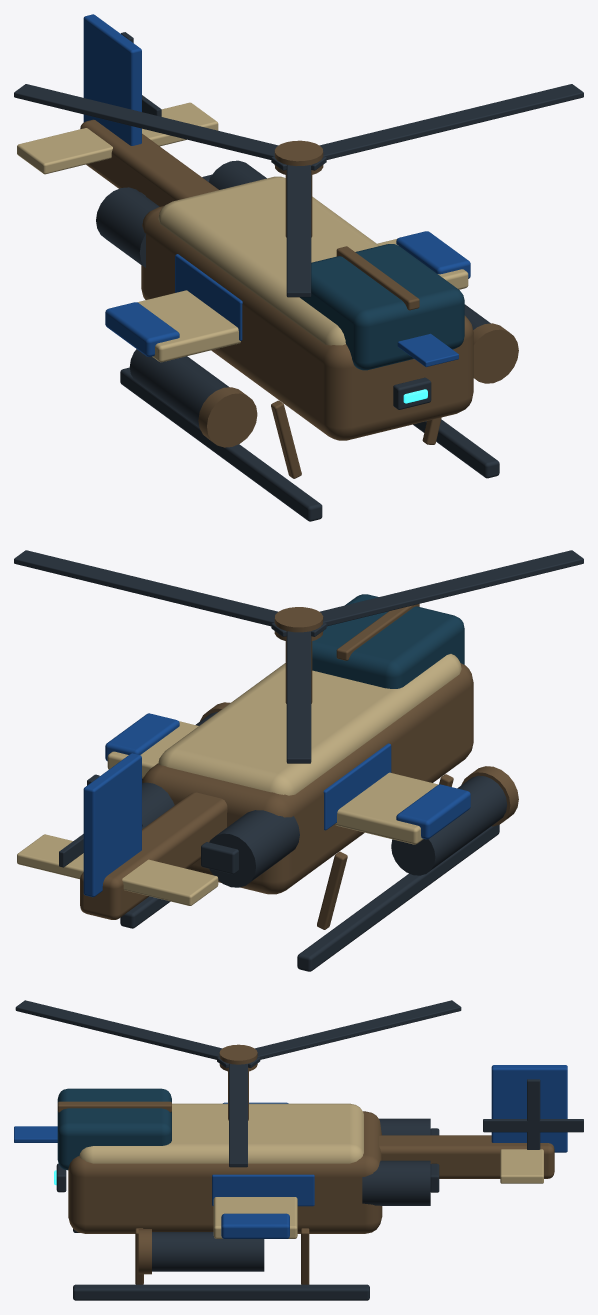
File: gunship-0.glb
3 views of the same model, one above another, from view 1: azimuth 30°, elevation 25°; view 2: azimuth 150°, elevation 25°; view 3: azimuth 270°, elevation 25° (orthographic). The views are drawn at different scales.
Visible parts, largest first — view 1: Airframe_0, CeramicFuselage_1, Cockpit_2, TailFin_24, TailBoom_23, RotorBlade_34, RotorBlade_36, TailPlane_25, Wing_8, Skid_26, WeaponPod_10, RotorBlade_35 (+13 smaller); view 2: CeramicFuselage_1, Airframe_0, Cockpit_2, TailBoom_23, TailFin_24, TailPlane_25, RotorBlade_35, RotorBlade_34, WeaponPod_10, Skid_26, Exhaust_12, Wing_8 (+12 smaller); view 3: Airframe_0, CeramicFuselage_1, Cockpit_2, Skid_29, TailBoom_23, TailFin_24, WeaponPod_18, Exhaust_20, RotorBlade_35, RotorBlade_36, SideEnamel_15, RotorBlade_34 (+11 smaller).
Boxes of the visible parts, x1,y1,x2,y2 form: Airframe_0: (141, 206, 473, 440); CeramicFuselage_1: (158, 176, 379, 345); Cockpit_2: (300, 244, 464, 370); TailFin_24: (83, 14, 141, 145); TailBoom_23: (80, 119, 218, 206); RotorBlade_34: (271, 84, 583, 170); RotorBlade_36: (14, 84, 326, 170); TailPlane_25: (17, 102, 218, 174); Wing_8: (137, 290, 240, 362); Skid_26: (120, 367, 322, 521); WeaponPod_10: (129, 349, 229, 427); RotorBlade_35: (286, 165, 311, 297); CeramicFuselage_1: (158, 654, 461, 795); Airframe_0: (142, 663, 473, 894); Cockpit_2: (312, 594, 464, 688); TailBoom_23: (80, 792, 227, 919); TailFin_24: (83, 753, 141, 897); TailPlane_25: (17, 834, 218, 905); RotorBlade_35: (271, 550, 583, 636); RotorBlade_34: (14, 550, 326, 636); WeaponPod_10: (391, 775, 507, 875); Skid_26: (297, 824, 499, 971); Exhaust_12: (209, 810, 299, 887); Wing_8: (335, 772, 438, 844); Airframe_0: (68, 1111, 382, 1233); CeramicFuselage_1: (79, 1103, 363, 1163); Cockpit_2: (57, 1088, 171, 1170); Skid_29: (73, 1284, 369, 1300); TailBoom_23: (379, 1135, 554, 1178); TailFin_24: (491, 1065, 567, 1152); WeaponPod_18: (152, 1232, 264, 1271); Exhaust_20: (362, 1160, 430, 1205); RotorBlade_35: (15, 1000, 260, 1067); RotorBlade_36: (217, 1000, 461, 1067); SideEnamel_15: (212, 1174, 314, 1206); RotorBlade_34: (229, 1063, 247, 1167).
Bounding box in the file's own units: 2.09 × 1.23 × 2.99.
